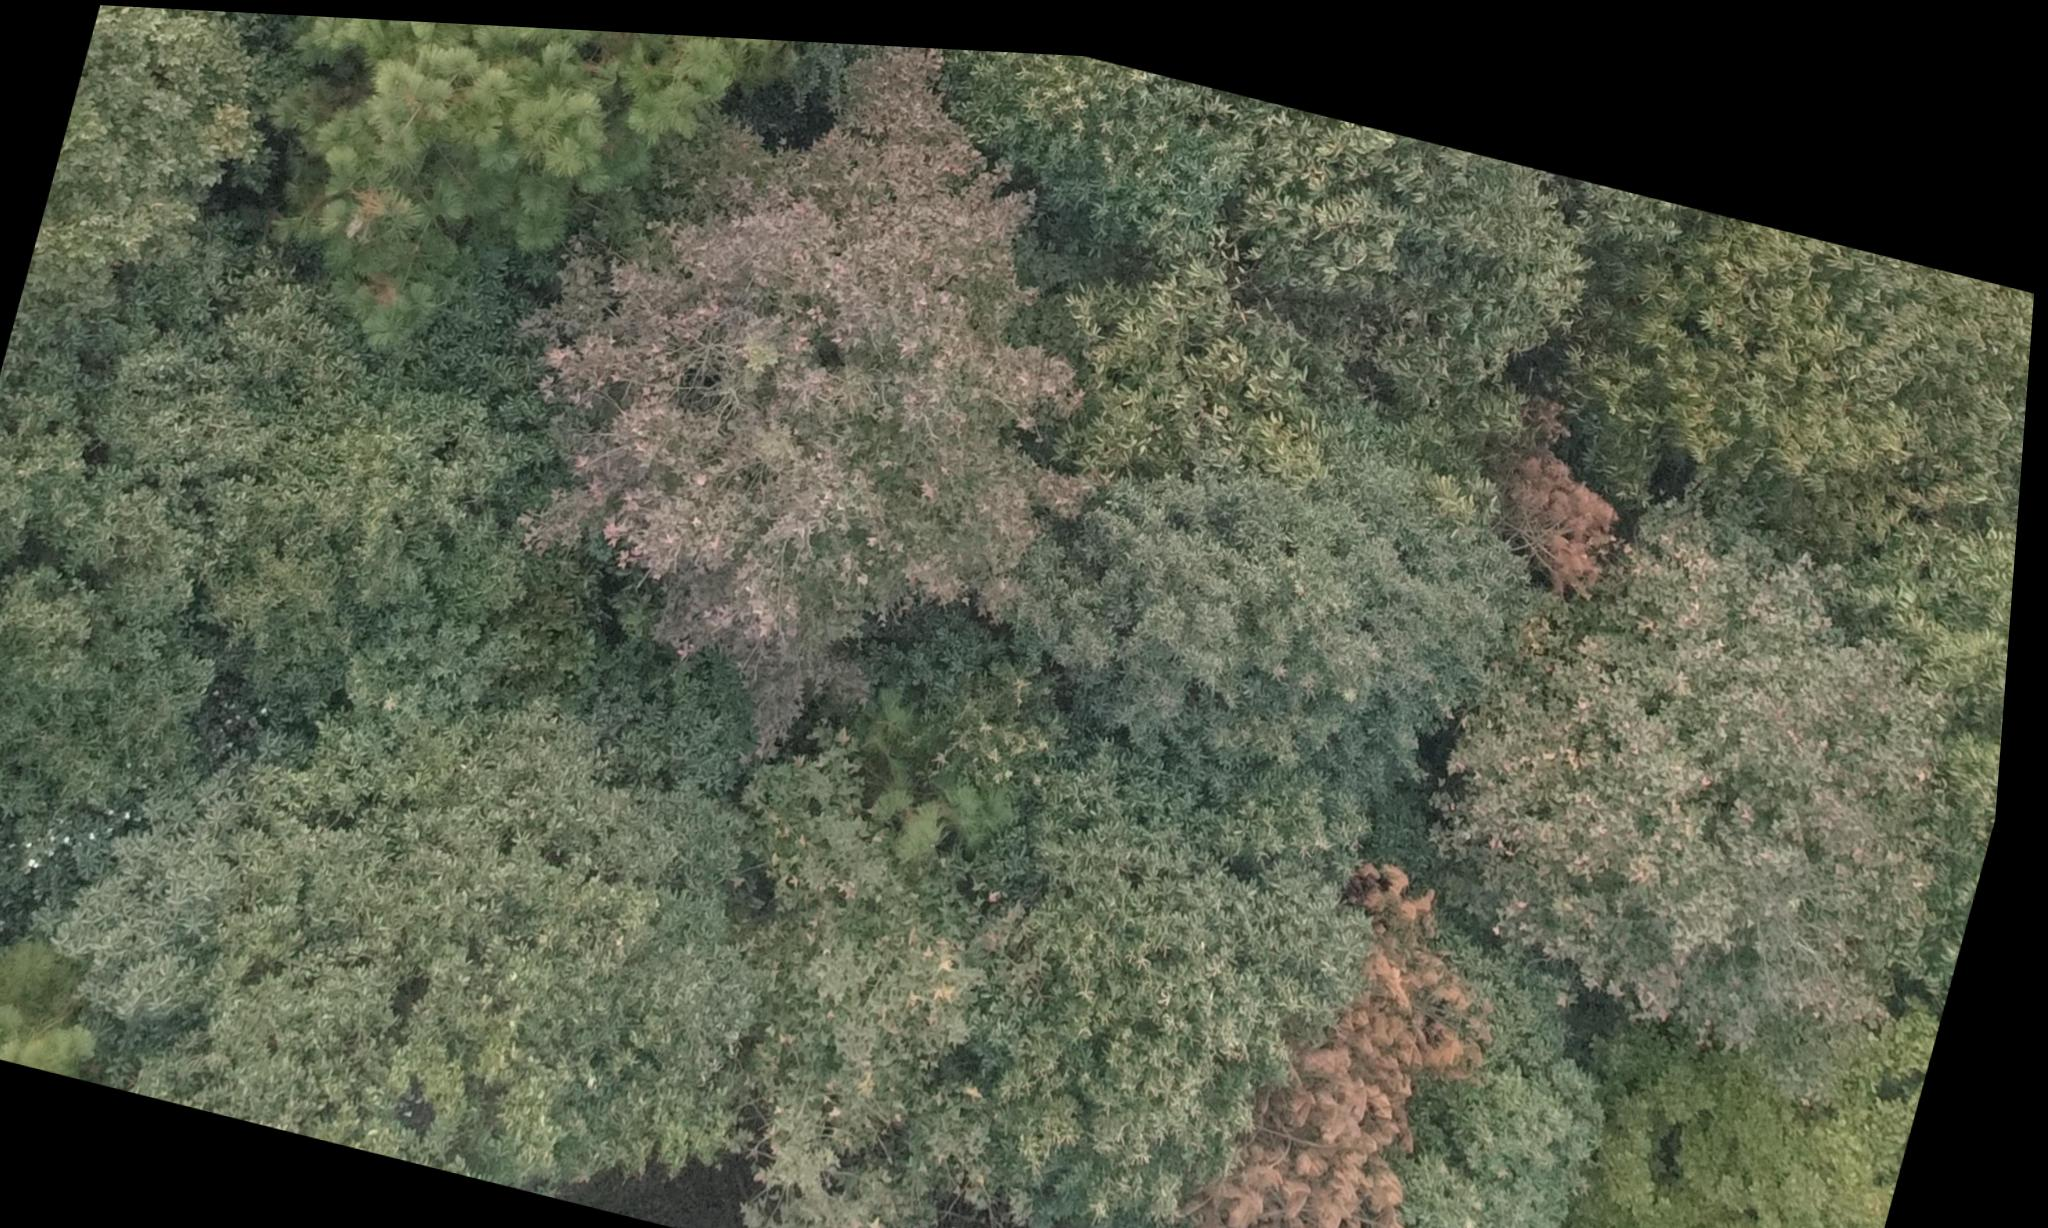heavy: (1110, 794, 1588, 1228), (1419, 346, 1718, 620)
